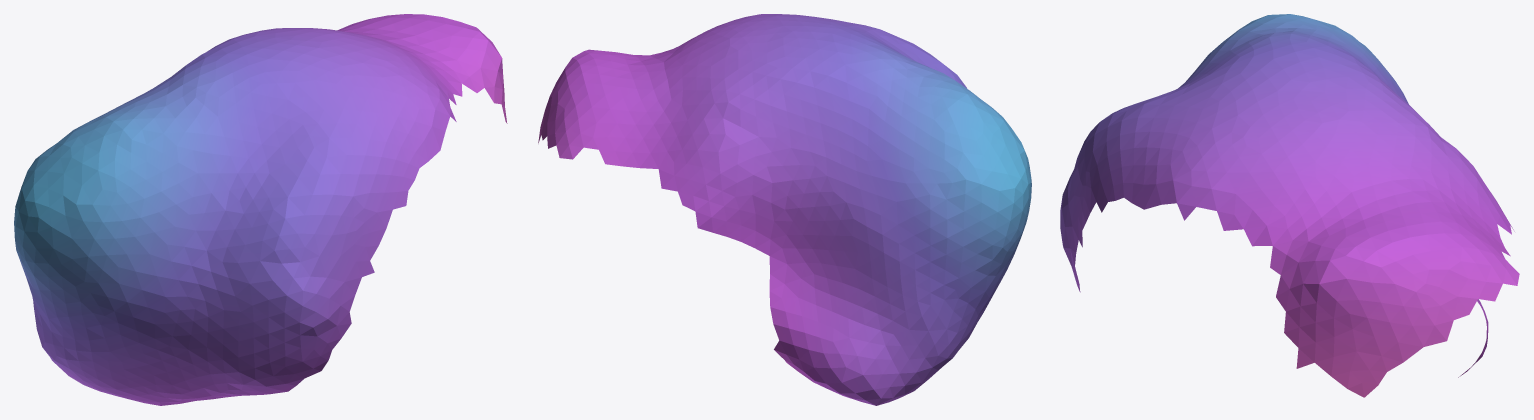
The model's file is aneurysm.glb.
3 views of the same model, side by side, from view 1: azimuth 30°, elevation 25°; view 2: azimuth 150°, elevation 25°; view 3: azimuth 270°, elevation 25° (orthographic). The views are drawn at different scales.
Visible parts, largest first — view 1: world; view 2: world; view 3: world.
Boxes of the visible parts, left/top/right/bottom form: world: left=14, top=14, right=507, bottom=405; world: left=538, top=14, right=1031, bottom=405; world: left=1060, top=14, right=1519, bottom=397.
Size of the model in its own units: 8.16 by 5.26 by 5.82.
